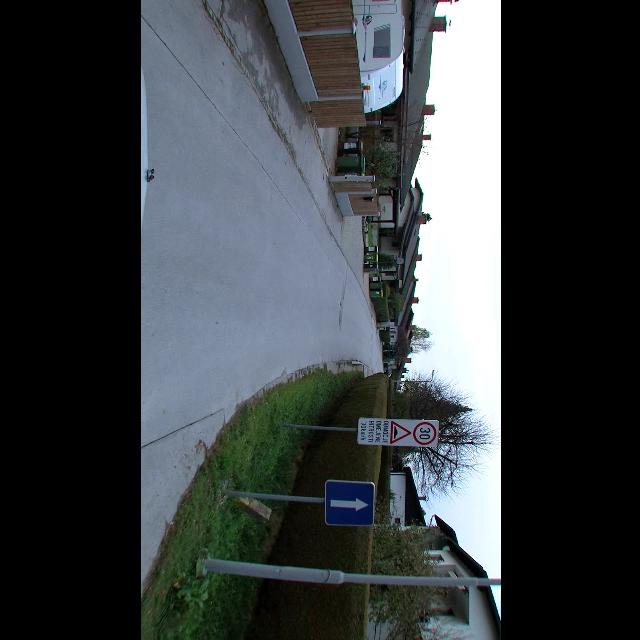Multi-inform: (356, 418, 438, 448)
Squared: (324, 482, 374, 526)
